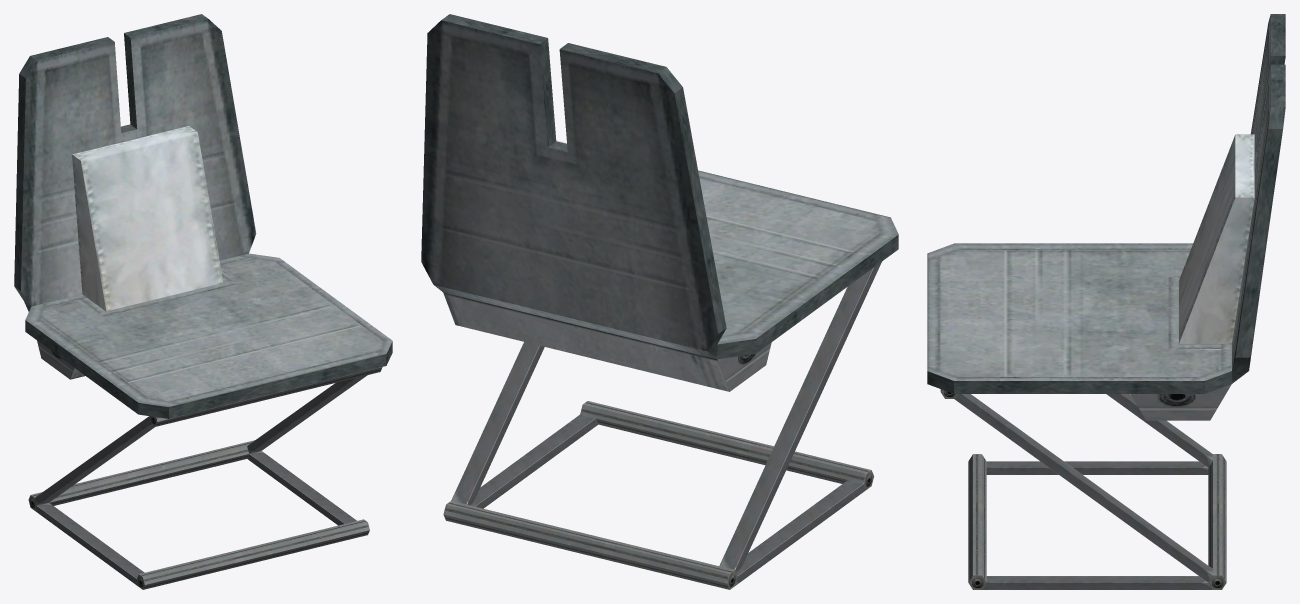
Rendered from eqp_camping_chair_s2_l0.fbx.
3 renders of one model, left to right at view 1: azimuth 30°, elevation 25°; view 2: azimuth 150°, elevation 25°; view 3: azimuth 270°, elevation 25°, orthographic. The views are drawn at different scales.
Visible parts, largest first — view 1: mesh_node; view 2: mesh_node; view 3: mesh_node.
Boxes of the visible parts, <box> form: mesh_node: <box>14,14,392,589</box>; mesh_node: <box>421,14,898,589</box>; mesh_node: <box>927,14,1285,589</box>.
Size of the model in its own units: 0.5513 by 0.8777 by 0.6075.
